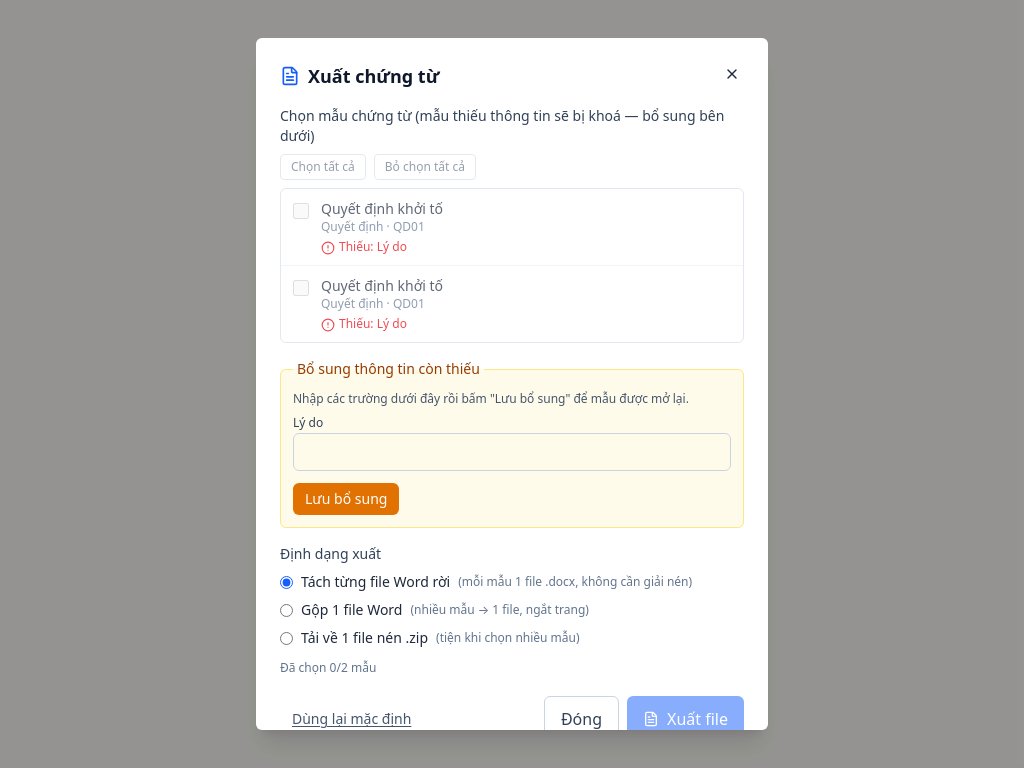
Test: Tự tích sau khi bổ sung thông tin › mẫu vừa đủ điều kiện mà KHÔNG bật cờ thì không tự tích
The width and height of the screenshot is (1024, 768).
Expected: the checkbox with test id "dyn-export-checkbox-t1" is shown, [293,203,309,219]
Type "X" into the field with test id "dyn-export-fill-lyDo" at (512, 452), box [293,433,731,471]
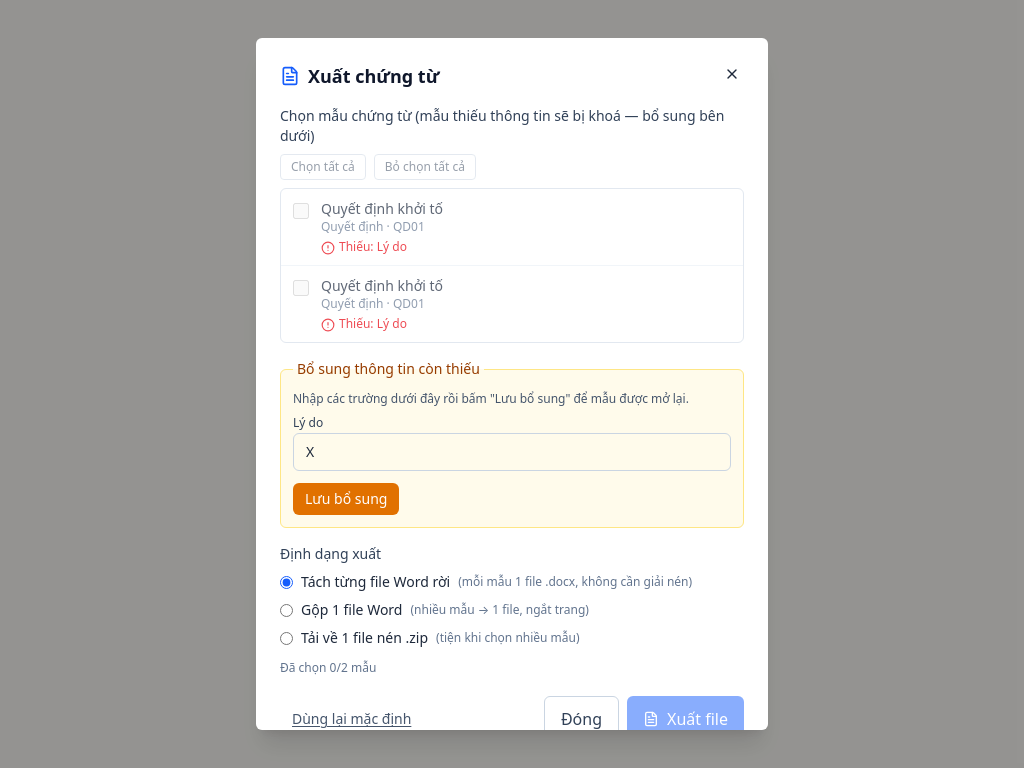
Click the button with test id "dyn-export-save-fill" at (346, 499), box [293,483,399,515]
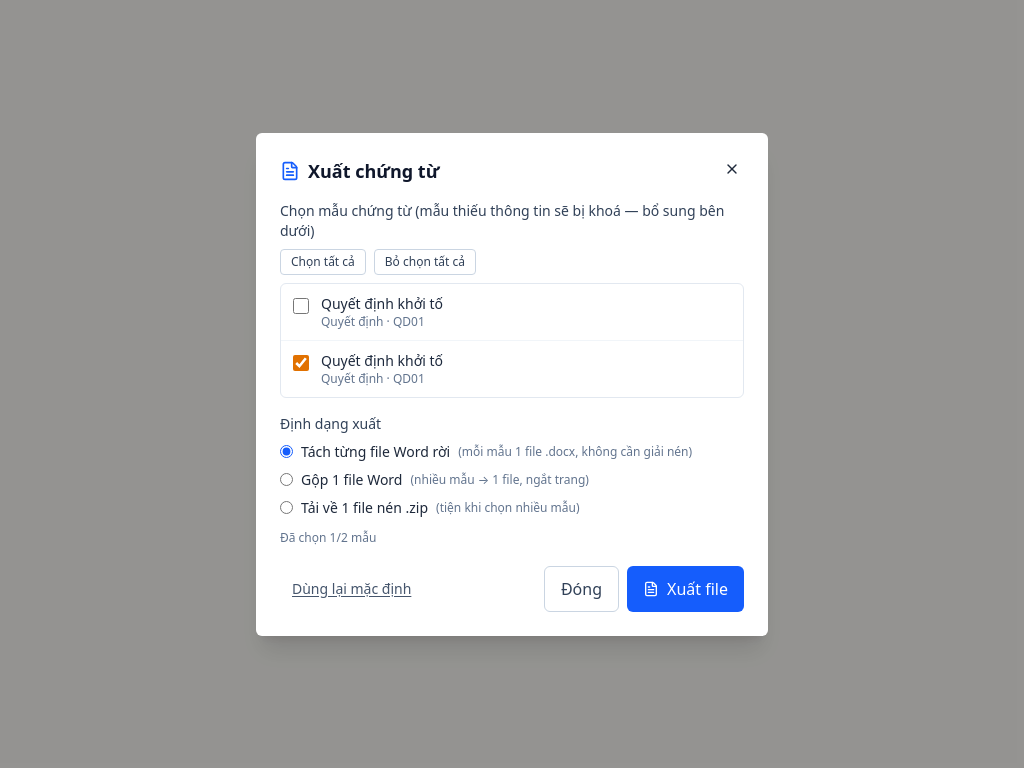
Expected: the checkbox with test id "dyn-export-checkbox-t1" is not checked, [293,298,309,314]
Now the checkbox with test id "dyn-export-checkbox-t1" is enabled, box [293,298,309,314]
